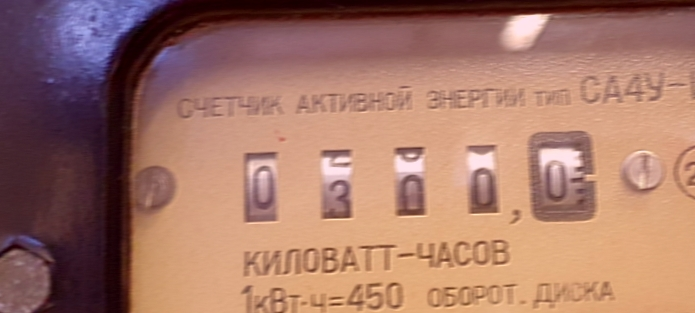0: (541, 154, 570, 203), (467, 163, 497, 210), (250, 158, 277, 210), (397, 167, 425, 216)
3: (324, 173, 354, 217)
screen: (222, 121, 606, 240)
